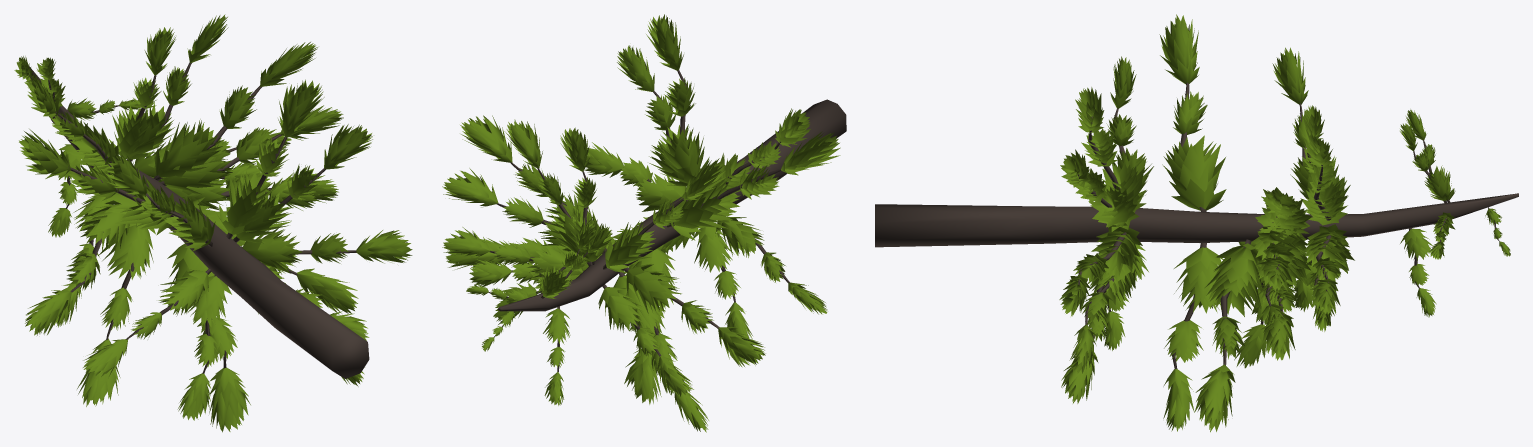
File: Arbol2Opt.fbx
The picture shows the model from 3 angles, left to right: view 1: azimuth 30°, elevation 25°; view 2: azimuth 150°, elevation 25°; view 3: azimuth 270°, elevation 25°; orthographic projection. The views are drawn at different scales.
Parts seen in each view (by area): view 1: A1.014; view 2: A1.014; view 3: A1.014.
Part boxes in pixels (left/top/right/bottom): A1.014: left=14, top=14, right=412, bottom=432; A1.014: left=442, top=14, right=846, bottom=432; A1.014: left=875, top=14, right=1518, bottom=432.
Bounding box in the file's own units: 17.02 × 10.37 × 10.8.
